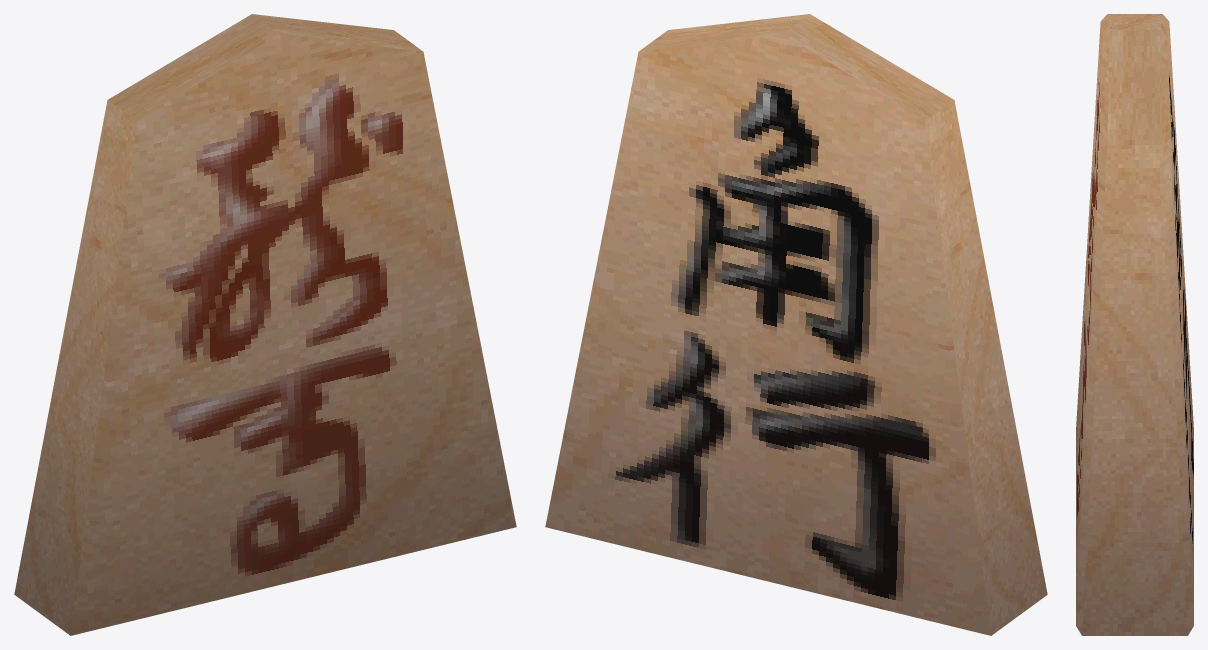
The model's file is ps2_save-icons_kakinokishogiiv-gamerecorddata.glb.
The picture shows the model from 3 angles, left to right: view 1: azimuth 30°, elevation 25°; view 2: azimuth 150°, elevation 25°; view 3: azimuth 270°, elevation 25°; orthographic projection. The views are drawn at different scales.
Parts seen in each view (by area): view 1: lst.ico; view 2: lst.ico; view 3: lst.ico.
Part boxes in pixels (x1=…): lst.ico: x1=14, y1=14, x2=516, y2=635; lst.ico: x1=545, y1=14, x2=1047, y2=635; lst.ico: x1=1076, y1=14, x2=1193, y2=635.
Size of the model in its own units: 4.11 by 4.73 by 1.
1 material, 1 textured.
